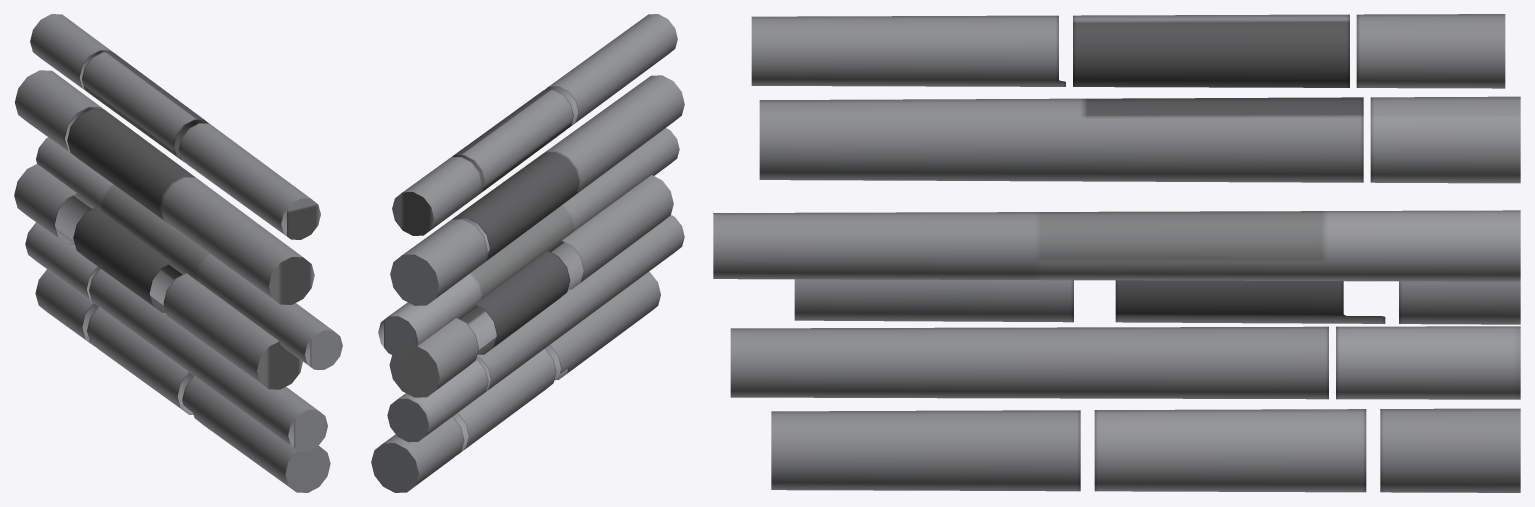
The picture shows the model from 3 angles, left to right: view 1: azimuth 30°, elevation 25°; view 2: azimuth 150°, elevation 25°; view 3: azimuth 270°, elevation 25°; orthographic projection. The views are drawn at different scales.
Bounding box in the file's own units: 0.21 × 0.8774 × 1.39.
